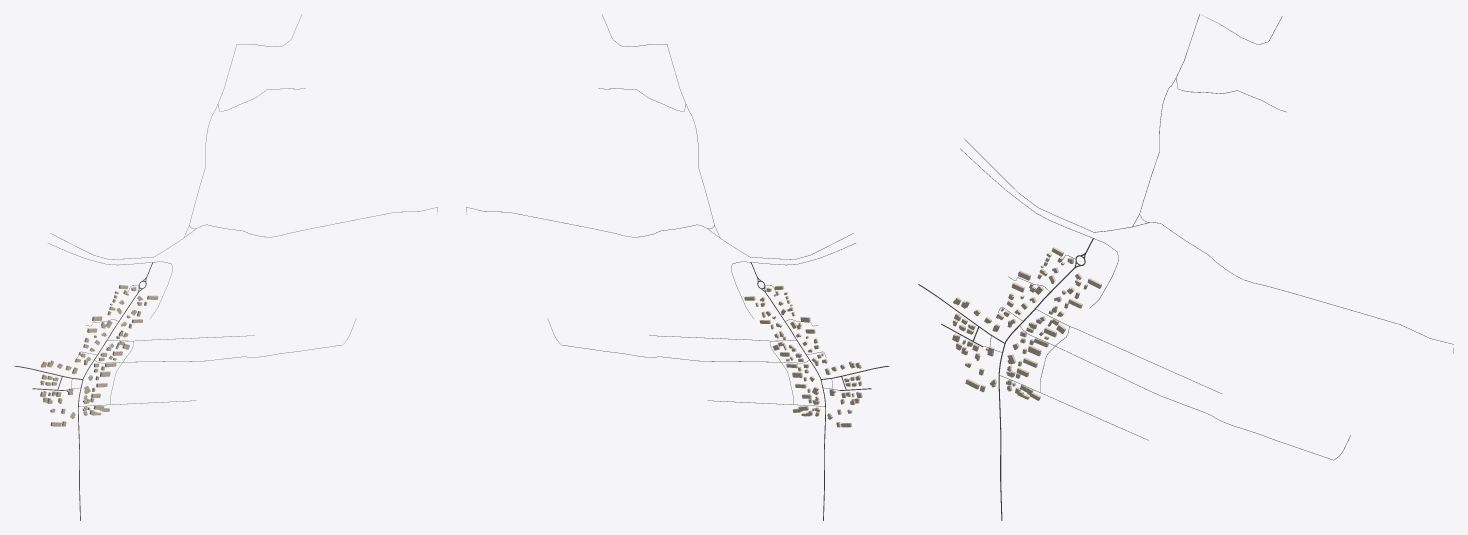
The model's file is historic-palestine-13_30_3549_3245.glb.
3 renders of one model, left to right at view 1: azimuth 30°, elevation 25°; view 2: azimuth 150°, elevation 25°; view 3: azimuth 330°, elevation 25°, orthographic. The views are drawn at different scales.
Parts seen in each view (by area): view 1: Road .004; view 2: Road .004; view 3: Road .004.
Part boxes in pixels (x1,y1,x2,y2): Road .004: [189, 14, 437, 237]; Road .004: [466, 14, 714, 237]; Road .004: [1139, 14, 1453, 353].
Bounding box in the file's own units: 1611 × 1647 × 8.7.
